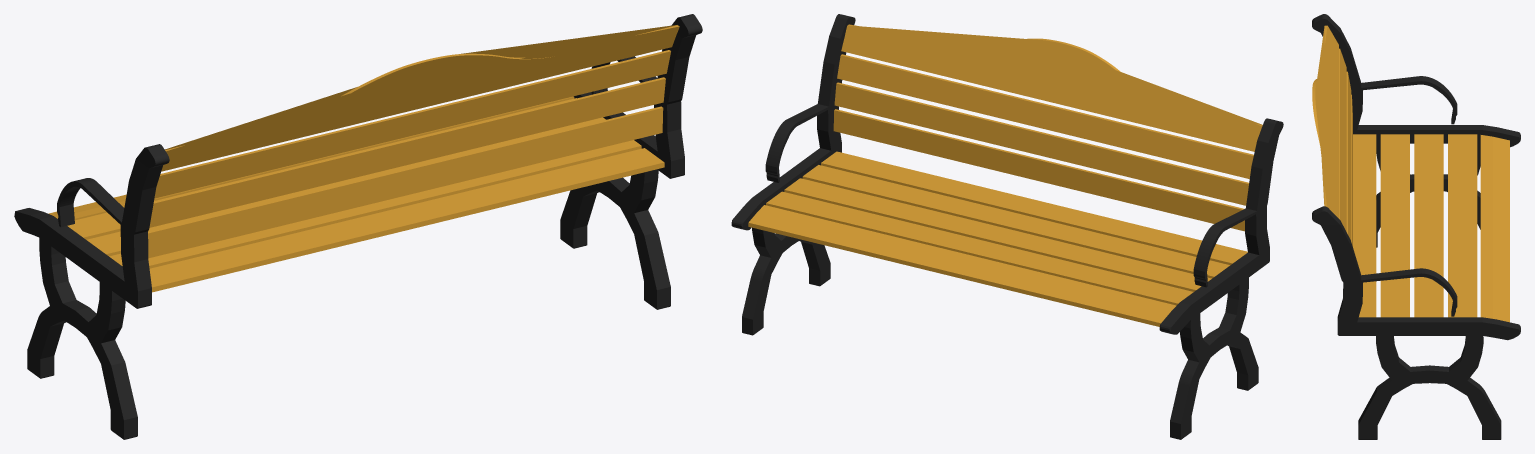
File: chair.fbx
The picture shows the model from 3 angles, left to right: view 1: azimuth 30°, elevation 25°; view 2: azimuth 150°, elevation 25°; view 3: azimuth 270°, elevation 25°; orthographic projection. The views are drawn at different scales.
Parts seen in each view (by area): view 1: chair; view 2: chair; view 3: chair.
Part boxes in pixels (x1,y1,x2,y2): chair: [14, 14, 702, 439]; chair: [731, 14, 1283, 439]; chair: [1312, 14, 1520, 439].
Size of the model in its own units: 1518 by 889 by 678.
